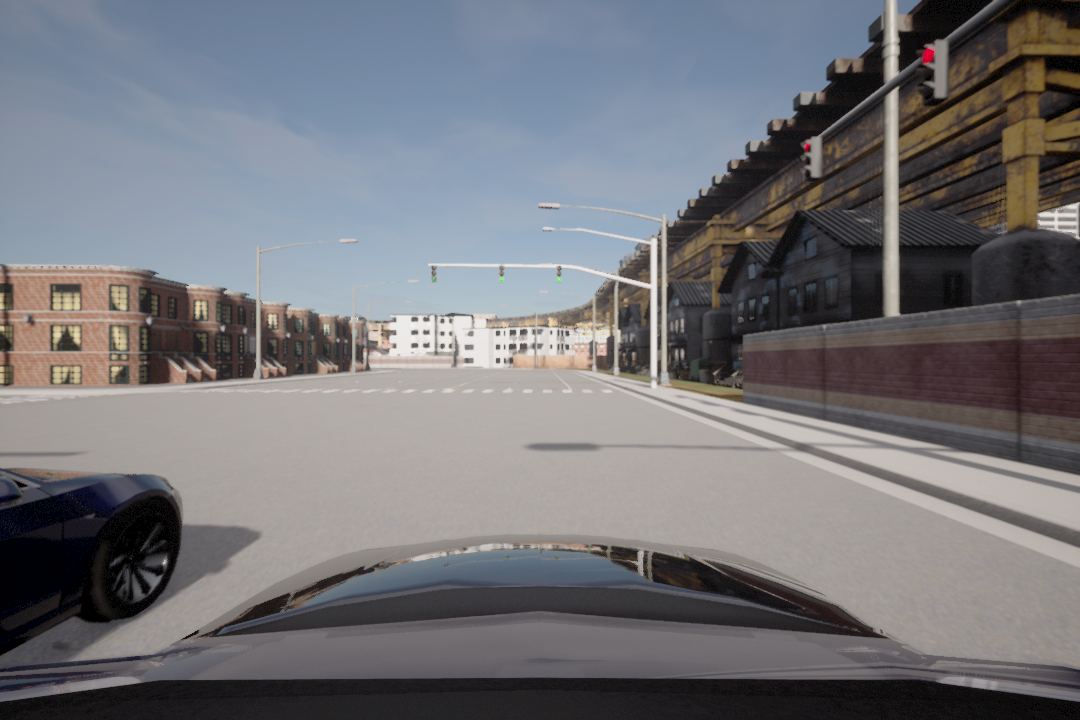TrafficLight: (916, 38, 958, 112), (797, 137, 829, 181), (427, 261, 438, 284), (495, 262, 508, 281), (554, 262, 561, 284)
walkside: (190, 384, 624, 400)
